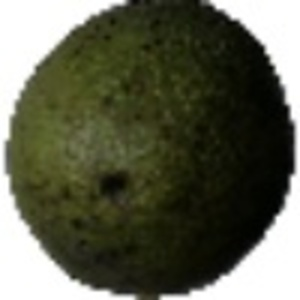abacate: (7, 2, 294, 294)
